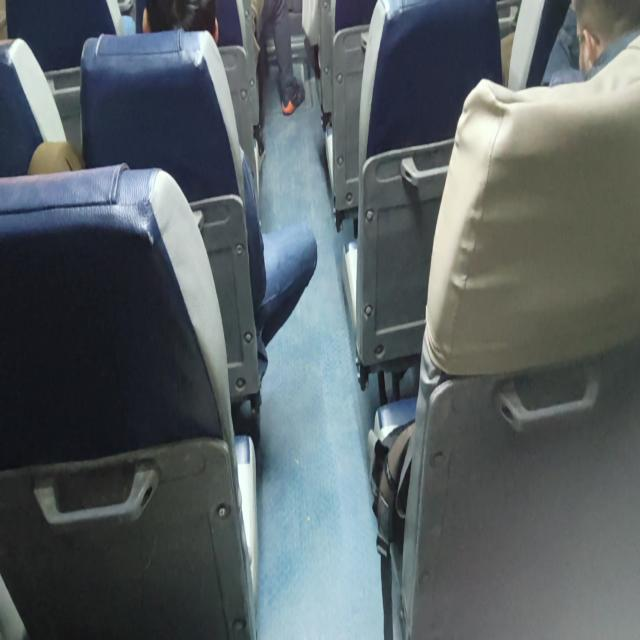person: (563, 0, 639, 97), (144, 0, 222, 50)
